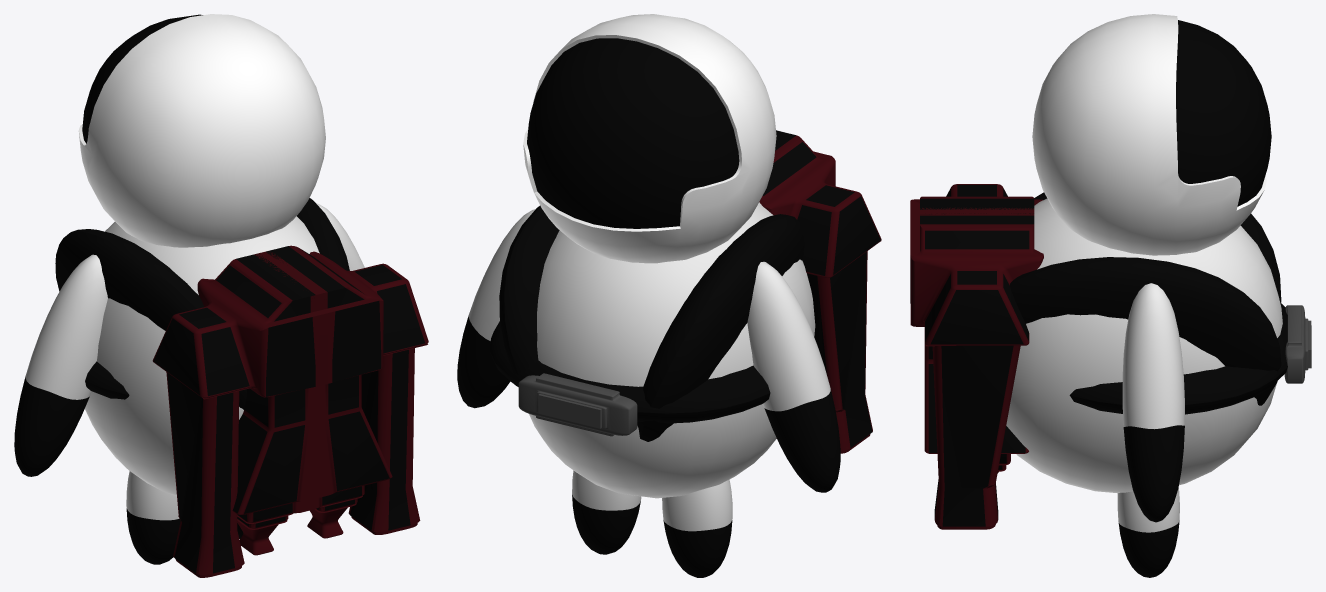
File: Digi_astronaut_player6.glb
3 views of the same model, side by side, from view 1: azimuth 30°, elevation 25°; view 2: azimuth 150°, elevation 25°; view 3: azimuth 270°, elevation 25° (orthographic). The views are drawn at different scales.
Parts seen in each view (by area): view 1: Cube.009; view 2: Cube.009; view 3: Cube.009.
Part boxes in pixels (x1,y1,x2,y2): Cube.009: [14, 14, 428, 577]; Cube.009: [457, 14, 881, 577]; Cube.009: [910, 14, 1311, 577].
Bounding box in the file's own units: 2.94 × 4.02 × 2.77.
